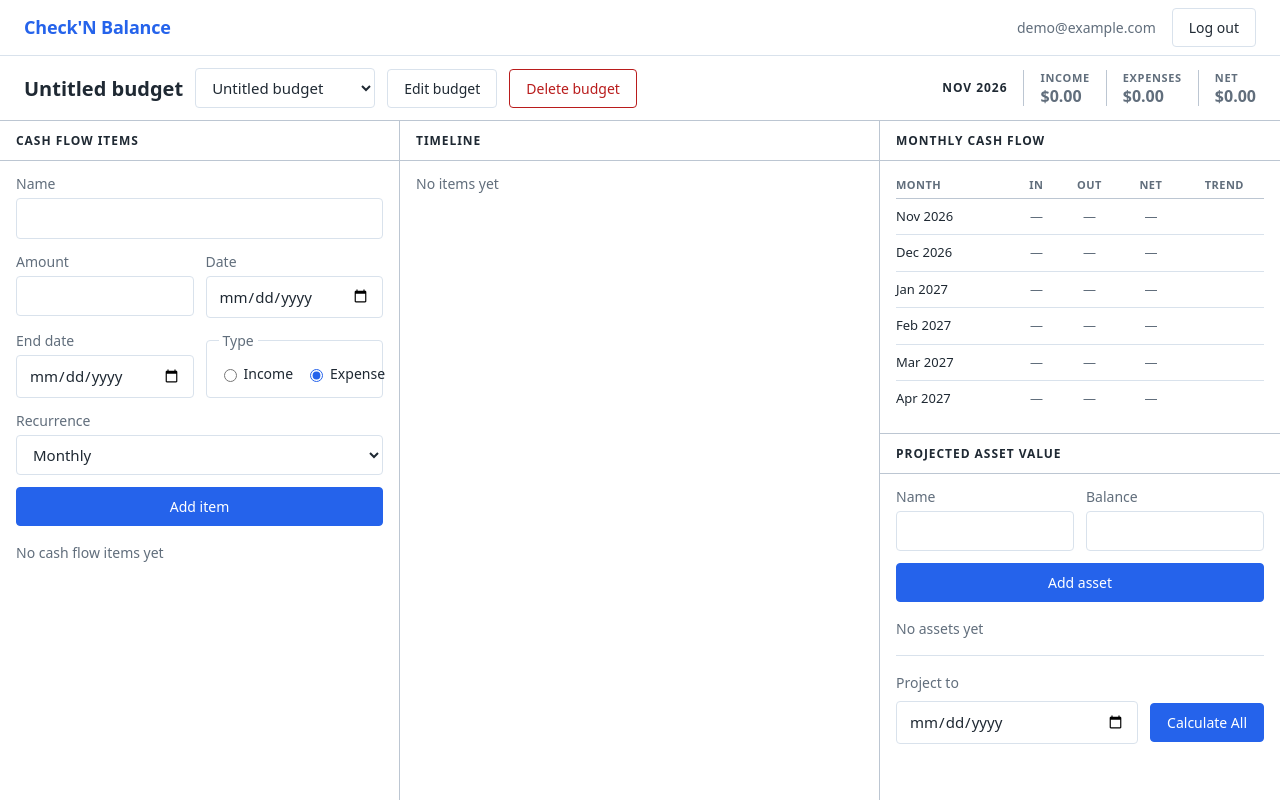
Scenario: the add form › lets the server judge a blank form (no browser validation)
Click the button "Add item" at (200, 506), box [16, 486, 383, 526]
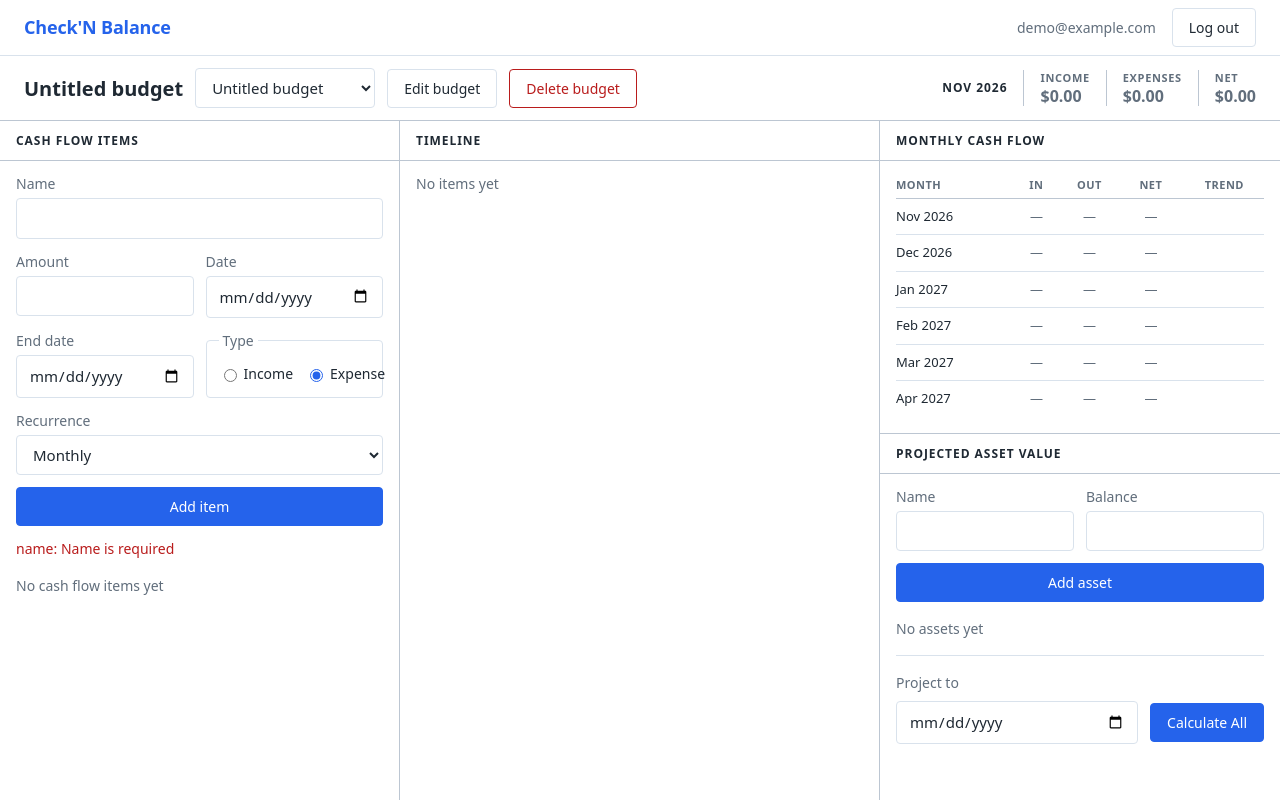
Check: the message "name: Name is required" is shown, box [16, 538, 174, 558]
